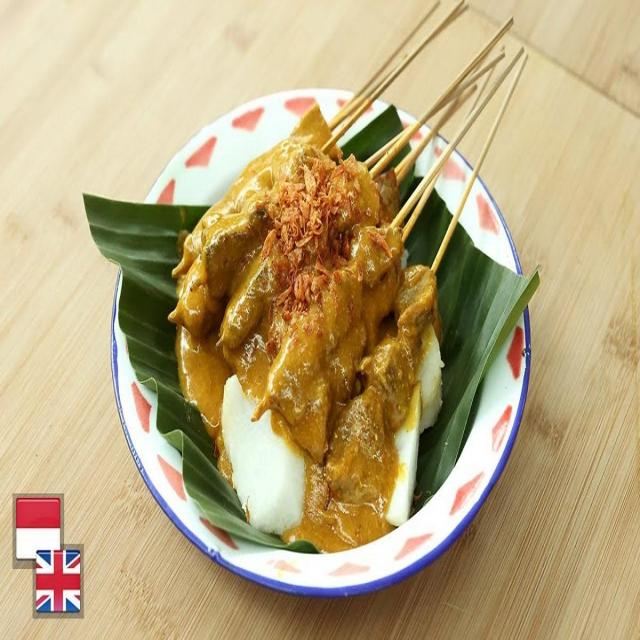Sate: (200, 0, 606, 457)
